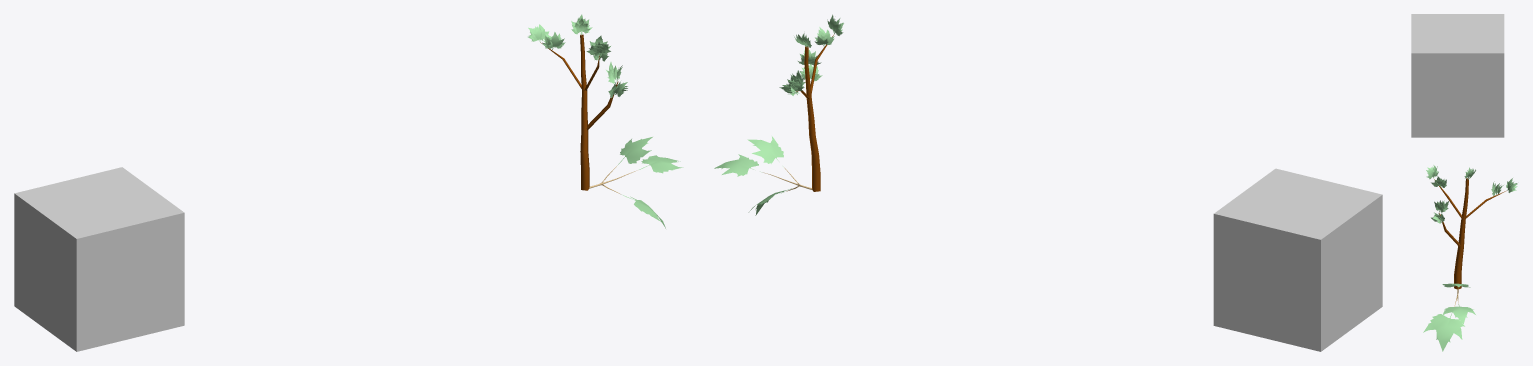
The model's file is FinalTree8.fbx.
3 views of the same model, side by side, from view 1: azimuth 30°, elevation 25°; view 2: azimuth 150°, elevation 25°; view 3: azimuth 270°, elevation 25° (orthographic). The views are drawn at different scales.
Parts seen in each view (by area): view 1: Cube, Árbol; view 2: Cube, Árbol, palmate.003; view 3: Cube, Árbol, palmate.002, palmate.001, palmate.003.
Part boxes in pixels (x1=…): Cube: x1=14, y1=167, x2=184, y2=351; Árbol: x1=540, y1=34, x2=618, y2=190; Cube: x1=1213, y1=168, x2=1382, y2=351; Árbol: x1=796, y1=35, x2=833, y2=191; palmate.003: x1=747, y1=136, x2=783, y2=166; Cube: x1=1411, y1=14, x2=1504, y2=137; Árbol: x1=1434, y1=178, x2=1506, y2=289; palmate.002: x1=1423, y1=312, x2=1464, y2=351; palmate.001: x1=1443, y1=304, x2=1475, y2=323; palmate.003: x1=1442, y1=283, x2=1470, y2=288.
Size of the model in its own units: 1185 by 383 by 231.
